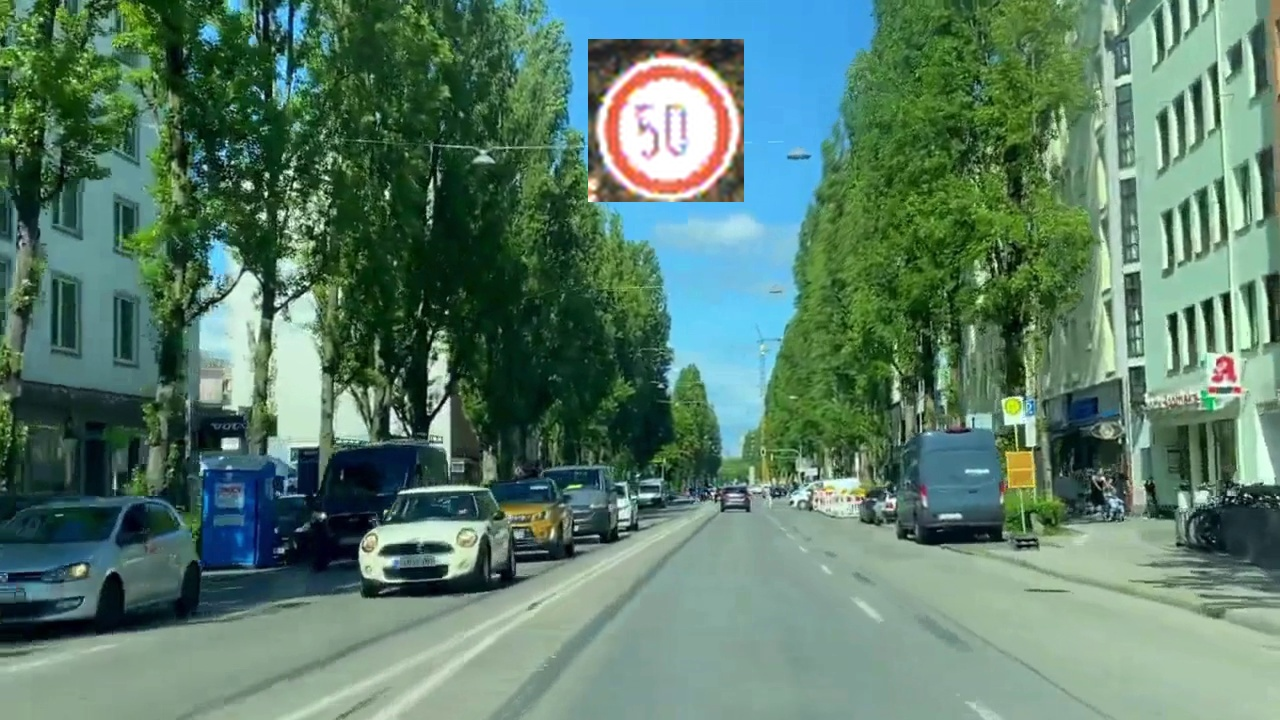Speed 50: (588, 39, 744, 202)
